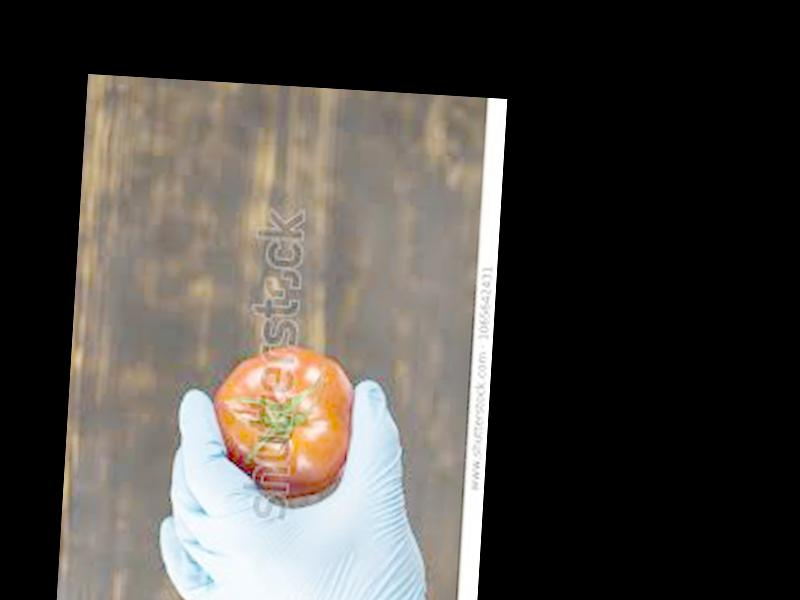Tomato: (208, 340, 358, 503)
